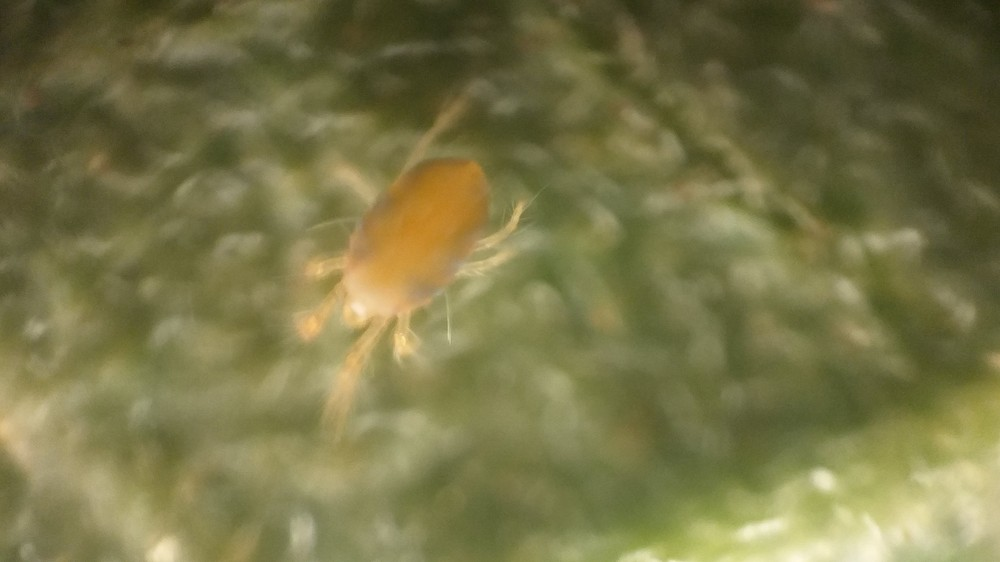Aracnido Rojo: (232, 92, 572, 466)
